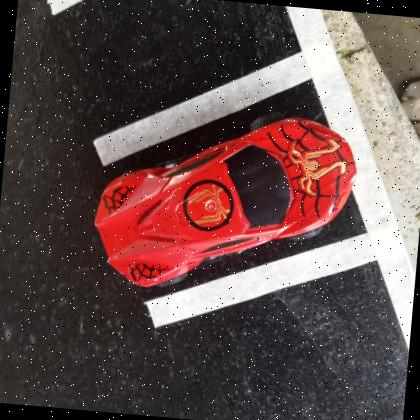Car: (94, 112, 356, 287)
